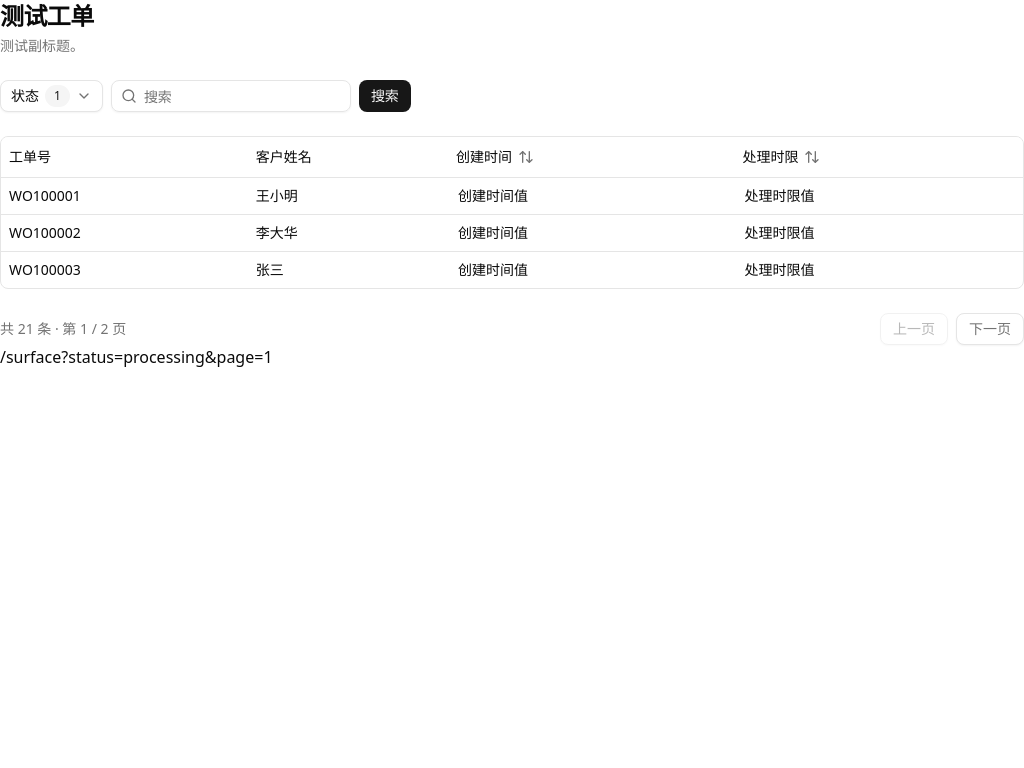
URL 筛选态 › 勾选筛选项写 URL 并重置页码
Click the button "下一页": (990, 328) [956,312,1023,344]
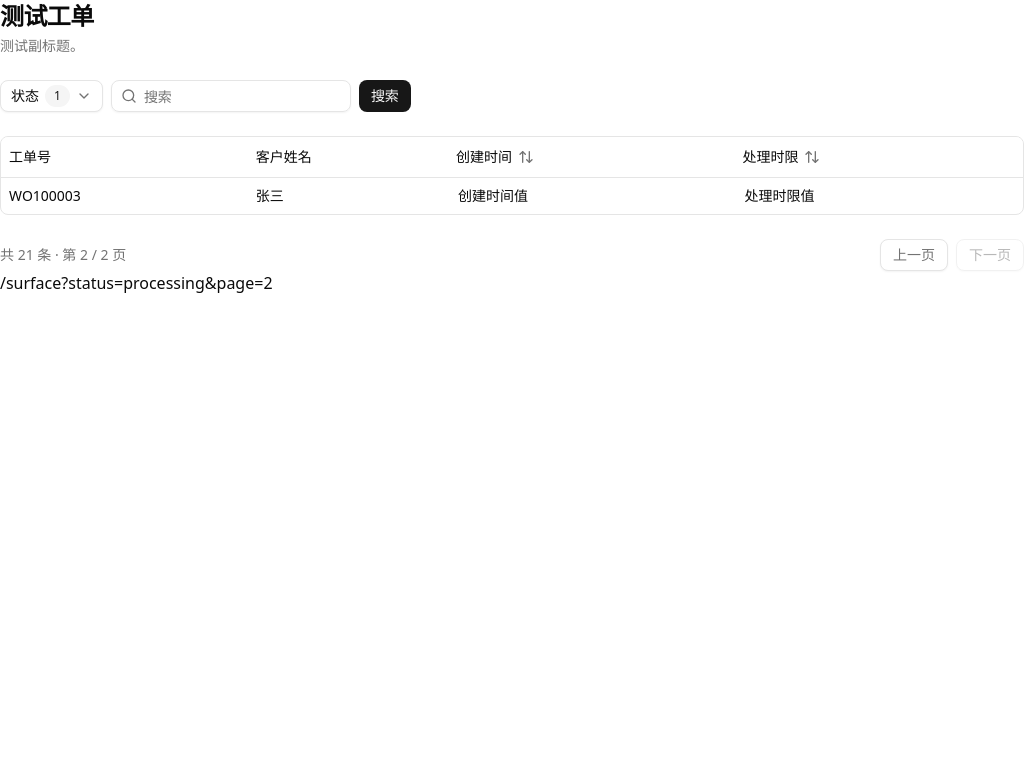
Now the text with test id "location" shows "page=2", box [0,272,272,294]
Click the button "状态 1": (51, 96) [0,80,103,112]
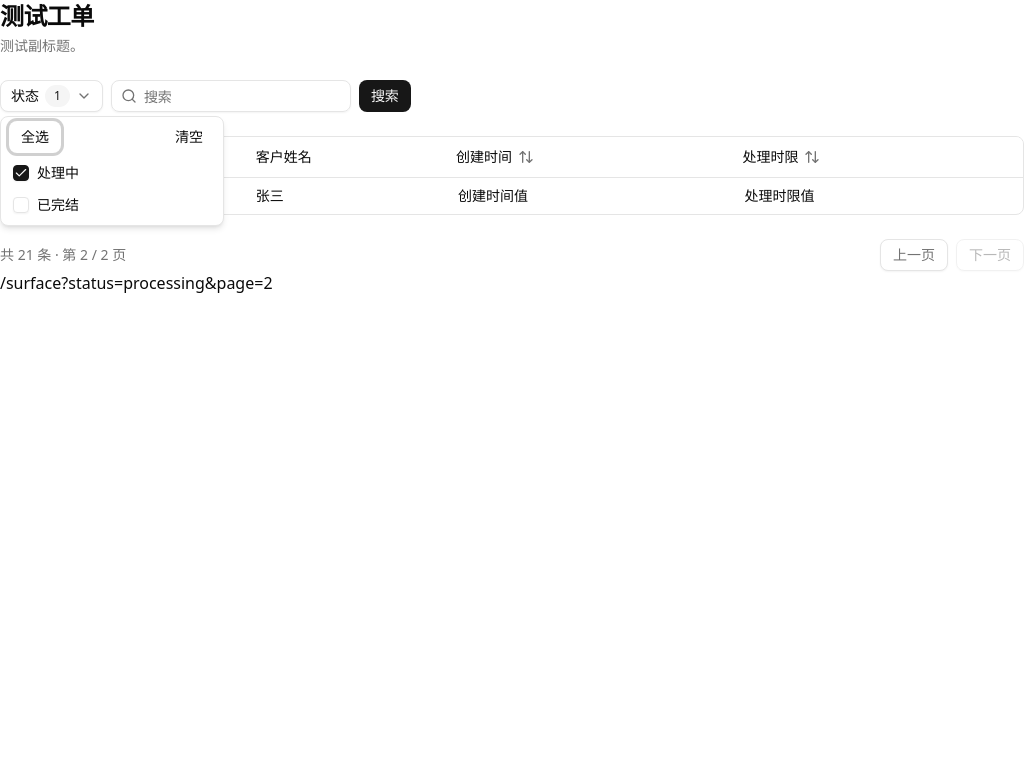
Click the checkbox named "已完结" next to "已完结": (21, 205) [13,197,29,213]
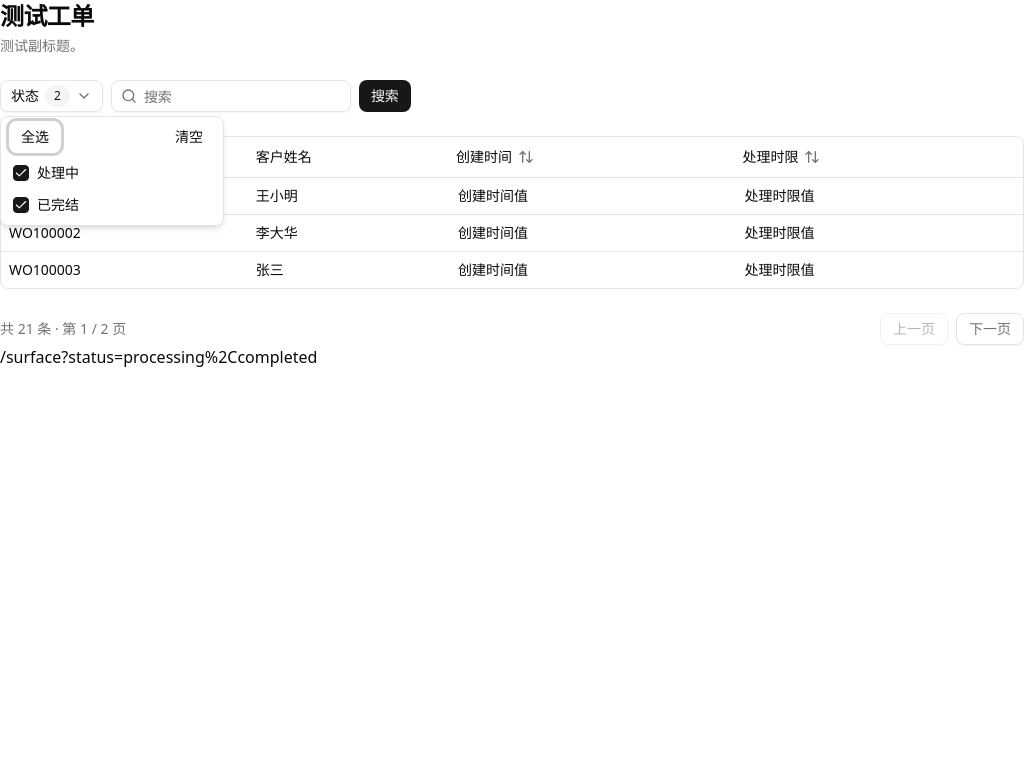
Now the text with test id "location" reads "/surface?status=processing%2Ccompleted", box [0,346,317,368]
